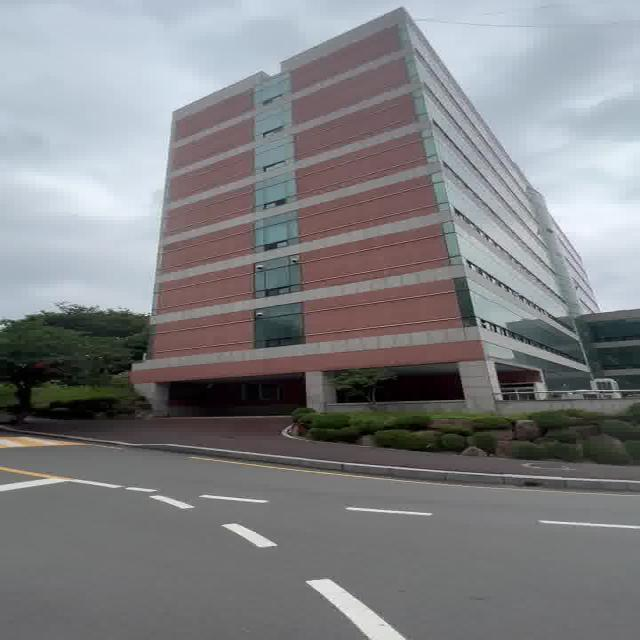building: (138, 54, 564, 385)
